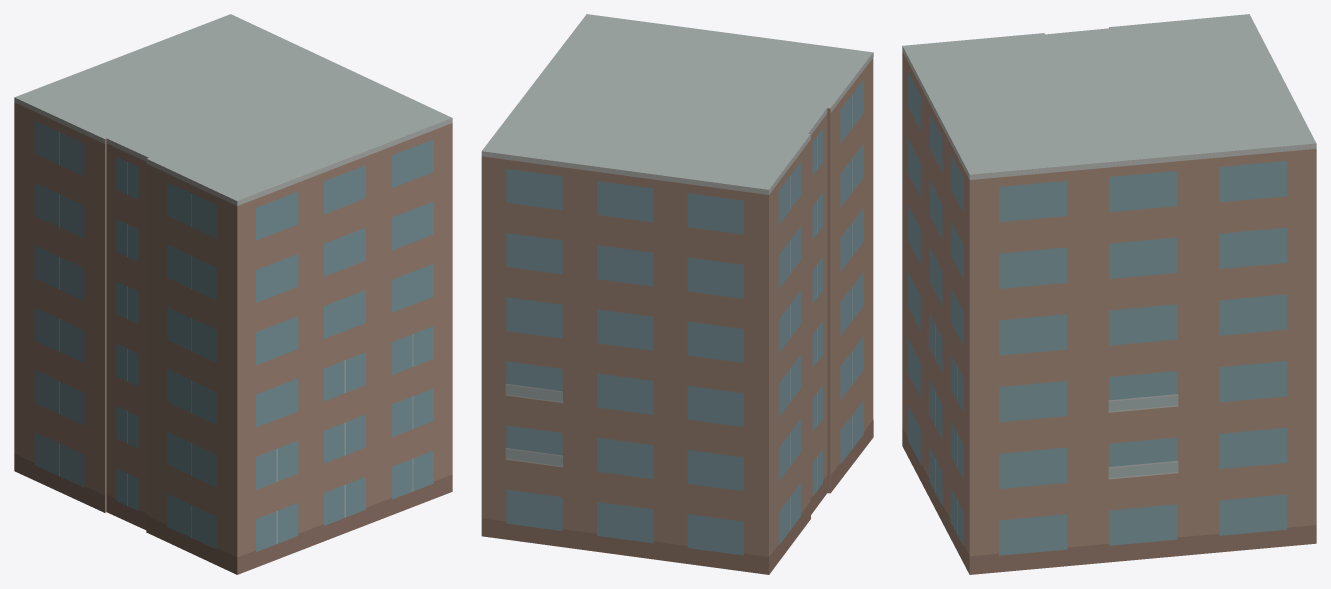
The model's file is survey-upis-33009590.glb.
The picture shows the model from 3 angles, left to right: view 1: azimuth 30°, elevation 25°; view 2: azimuth 150°, elevation 25°; view 3: azimuth 270°, elevation 25°; orthographic projection. The views are drawn at different scales.
Parts seen in each view (by area): view 1: survey-upis-33009590.tmp; view 2: survey-upis-33009590.tmp; view 3: survey-upis-33009590.tmp.
Part boxes in pixels (x1=…): survey-upis-33009590.tmp: x1=14, y1=14, x2=452, y2=574; survey-upis-33009590.tmp: x1=481, y1=14, x2=873, y2=574; survey-upis-33009590.tmp: x1=902, y1=14, x2=1316, y2=574.
Size of the model in its own units: 15.77 by 18.3 by 17.18.
